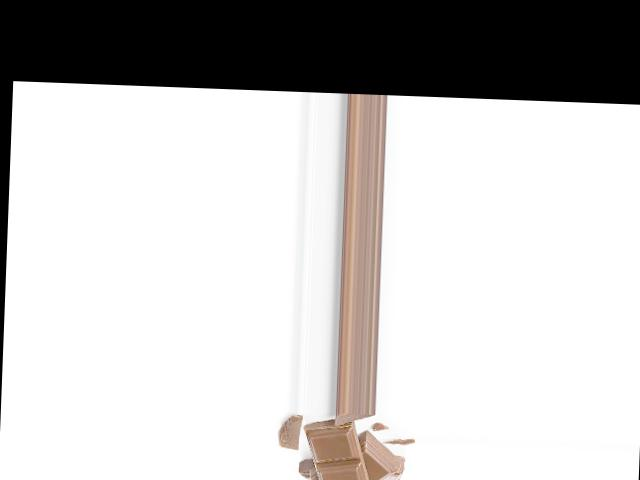chocolate: (304, 420, 373, 480)
